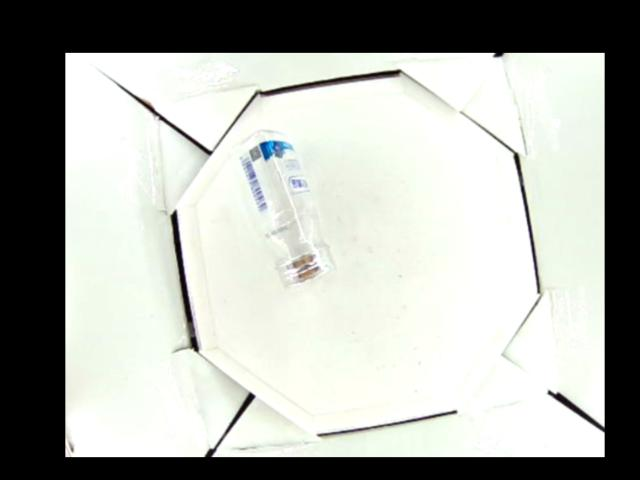Bottle: (228, 131, 335, 286)
